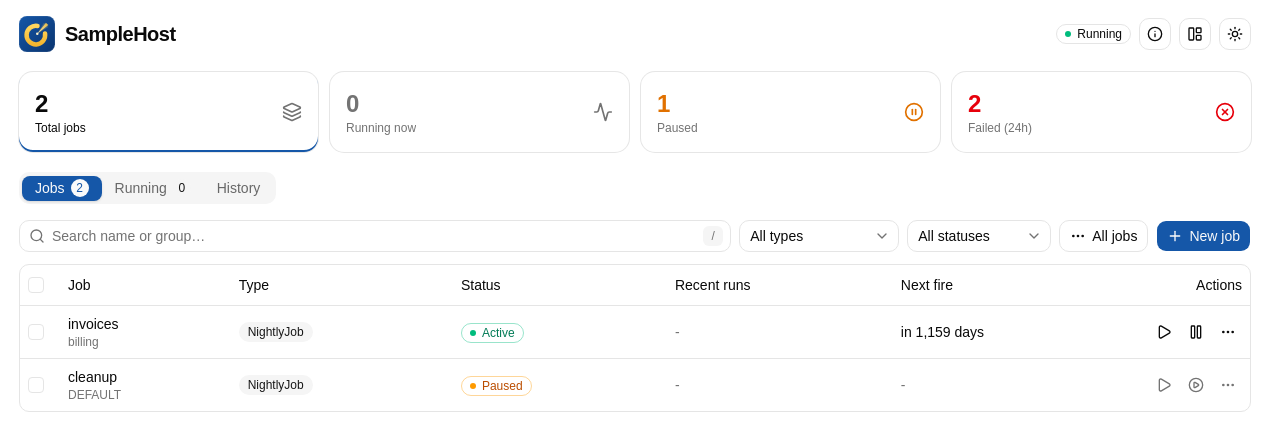
Test case: App › filters the jobs from the Paused card, on the server
Click the button "1 Paused".
click(790, 112)  # box 641,72 -> 940,152
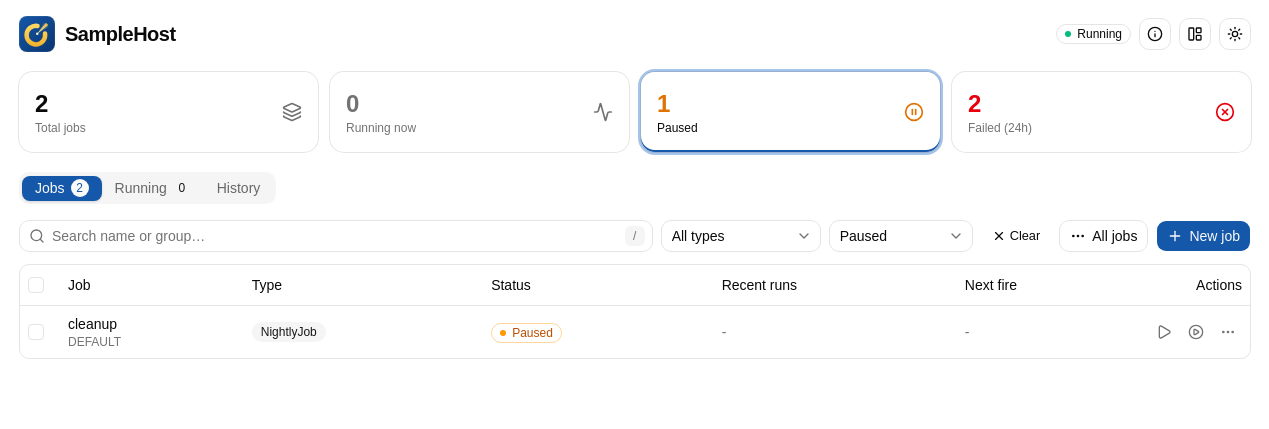
Expected: the text "cleanup" is shown, 68,314 -> 117,334
Result: the button "invoices" is gone
// Total jobs lists them all again
Click the button "2 Total jobs".
click(168, 112)  # box 19,72 -> 318,152
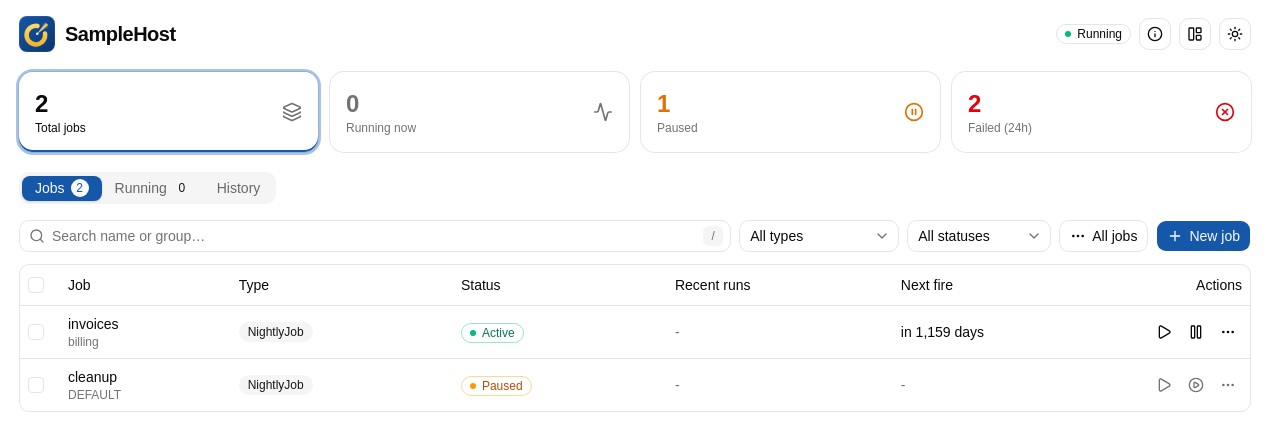
Result: the button "invoices" is shown at 68,314 -> 119,334
